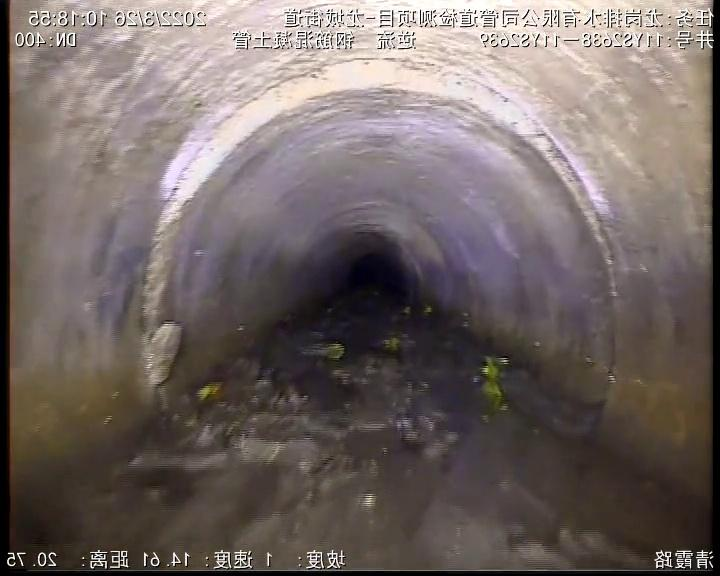CKTJ: (144, 59, 617, 327)
